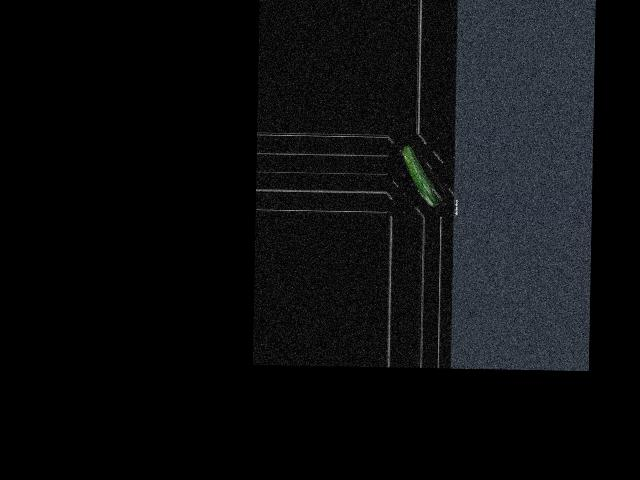cucumber: (402, 145, 441, 206)
